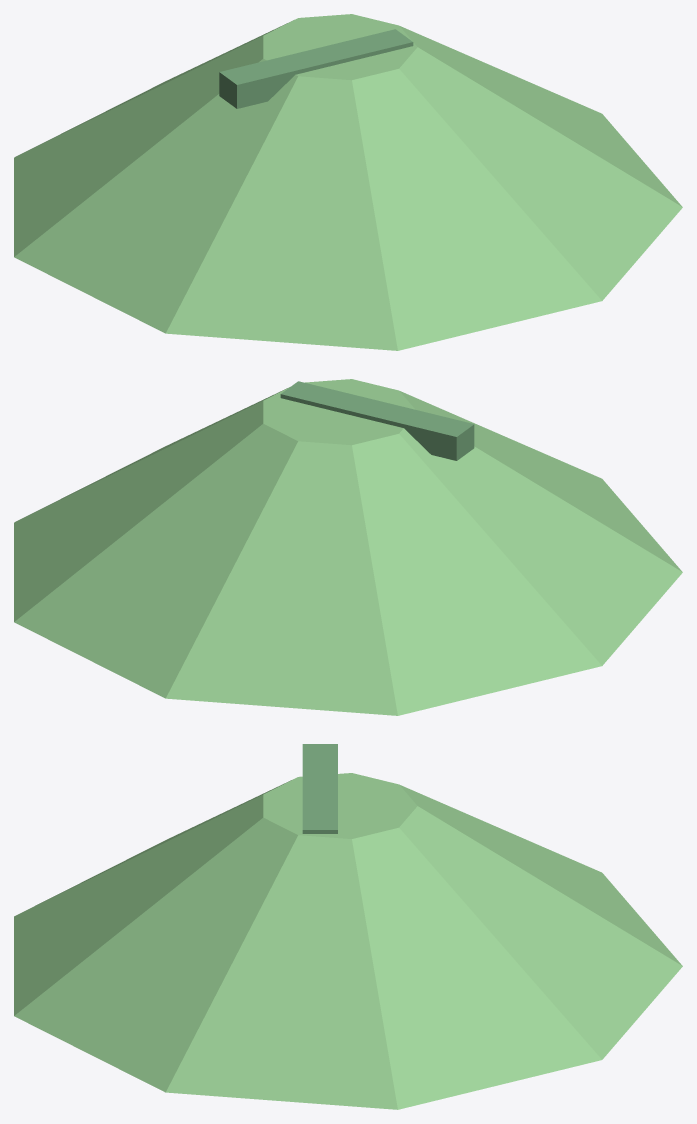
The model's file is hill.glb.
The picture shows the model from 3 angles, top to bottom: view 1: azimuth 30°, elevation 25°; view 2: azimuth 150°, elevation 25°; view 3: azimuth 270°, elevation 25°; orthographic projection.
Visible parts, largest first — view 1: mound, ridge; view 2: mound, ridge; view 3: mound, ridge.
Boxes of the visible parts, bbox=[...] form: mound: bbox=[14, 14, 682, 350]; ridge: bbox=[219, 29, 413, 108]; mound: bbox=[14, 379, 682, 715]; ridge: bbox=[280, 381, 474, 460]; mound: bbox=[14, 773, 682, 1109]; ridge: bbox=[302, 744, 337, 833].
Size of the model in its own units: 1.54 by 0.41 by 1.51.
